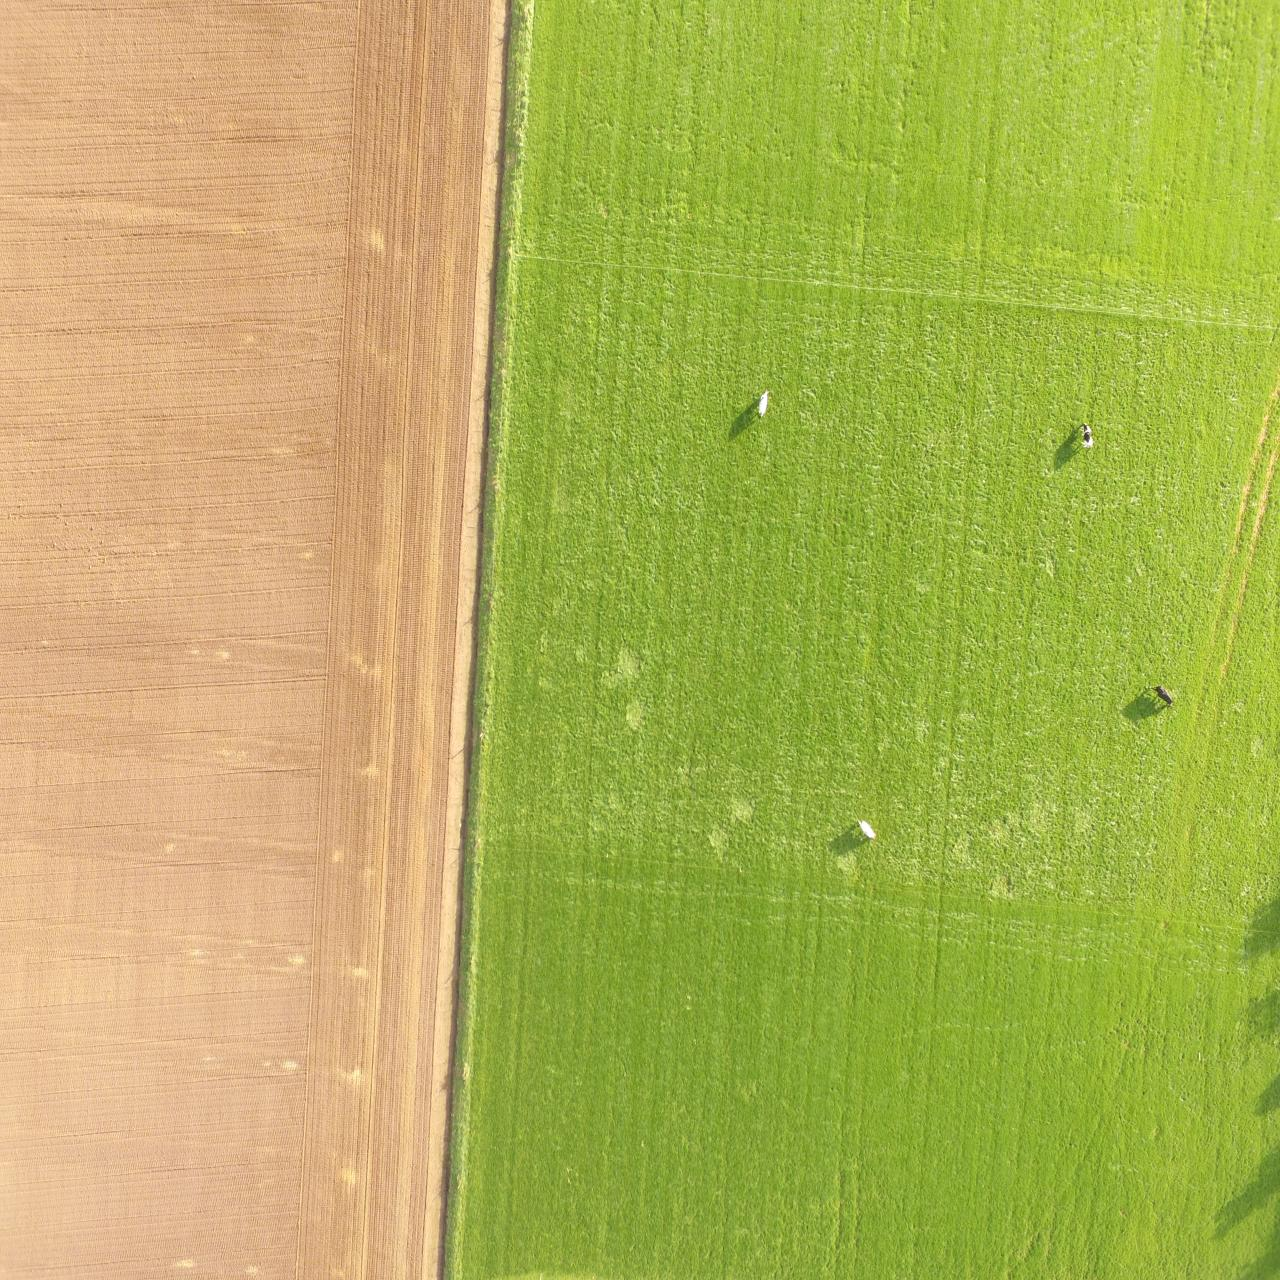cow: (1149, 681, 1173, 708), (756, 387, 771, 418), (1078, 421, 1094, 448), (857, 819, 877, 839)
